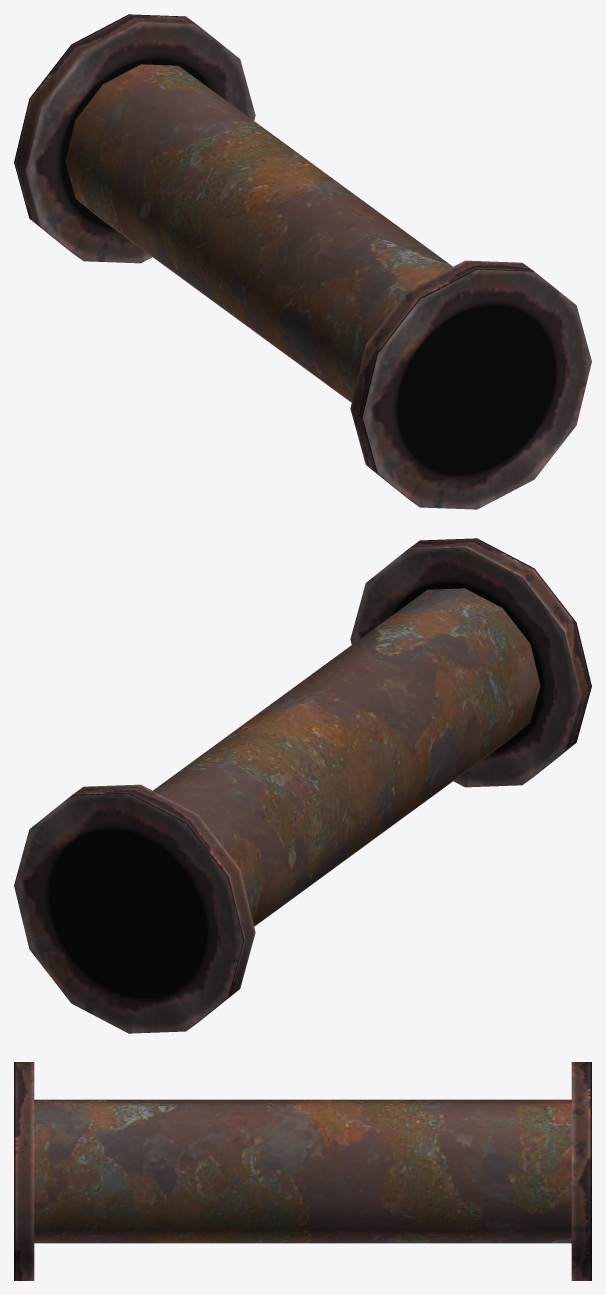
The model's file is pipe02_100cm.fbx.
The picture shows the model from 3 angles, top to bottom: view 1: azimuth 30°, elevation 25°; view 2: azimuth 150°, elevation 25°; view 3: azimuth 270°, elevation 25°; orthographic projection. The views are drawn at different scales.
Parts seen in each view (by area): view 1: pipe02_100cm; view 2: pipe02_100cm; view 3: pipe02_100cm.
Boxes of the visible parts, bbox=[...] form: pipe02_100cm: bbox=[14, 14, 591, 509]; pipe02_100cm: bbox=[14, 538, 591, 1033]; pipe02_100cm: bbox=[14, 1062, 591, 1280].
Size of the model in its own units: 38 by 38 by 100.
